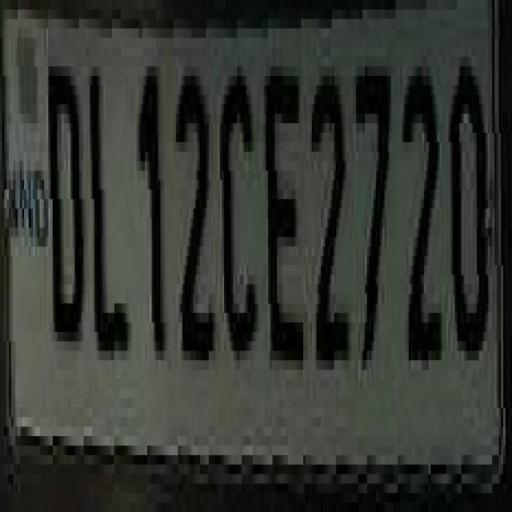number plate: (4, 0, 483, 502)
